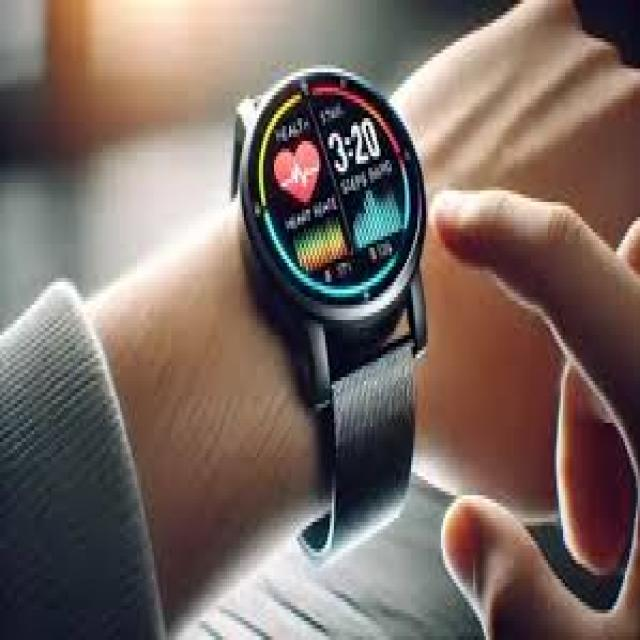objects: (232, 41, 434, 572)
